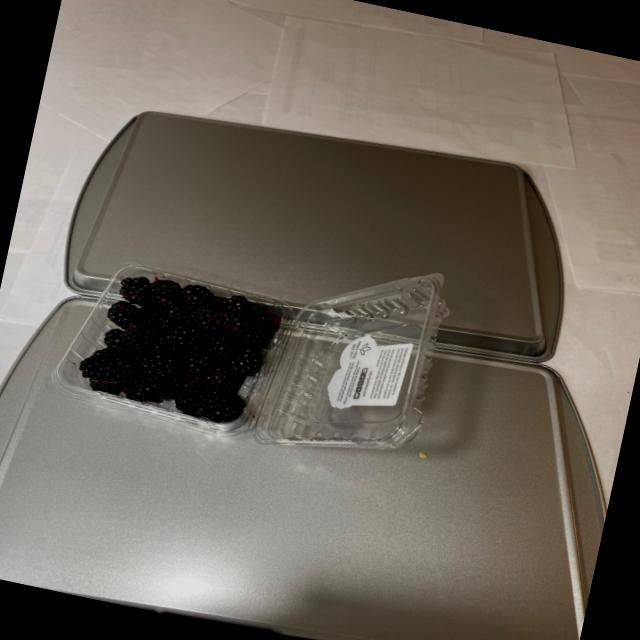blackberries: (85, 264, 273, 428)
